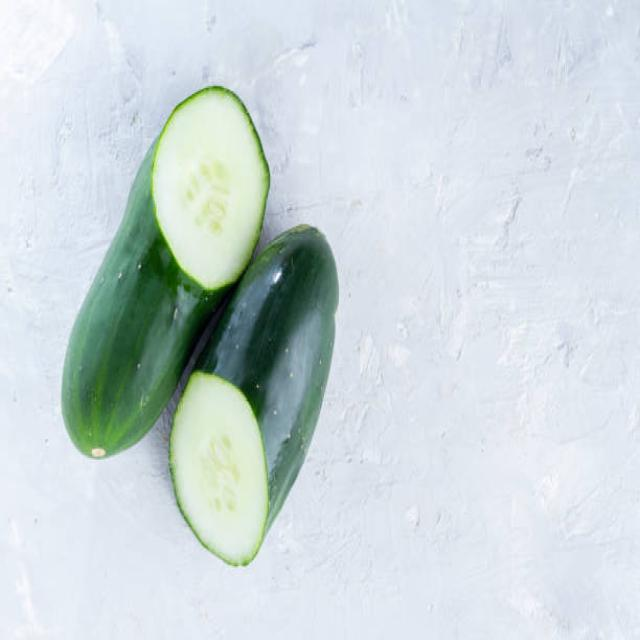cucumber: (62, 83, 269, 458), (168, 224, 340, 568)
